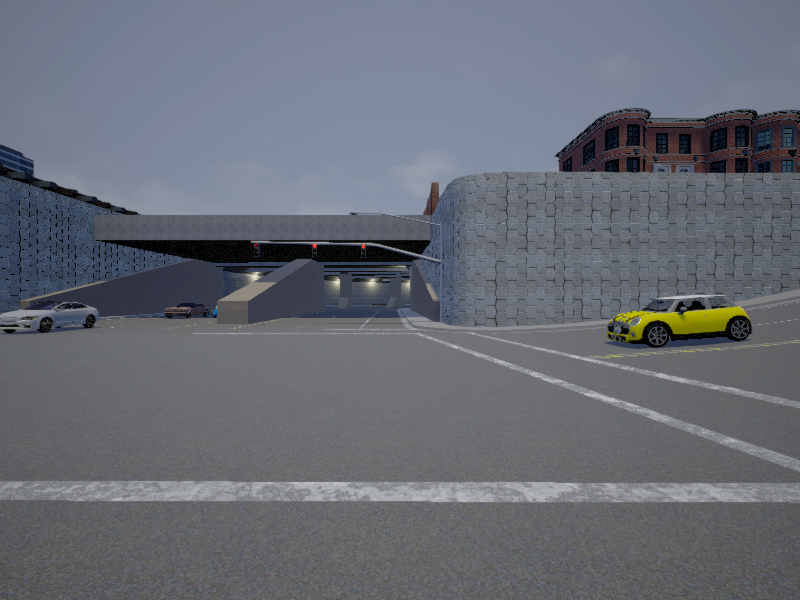Benign: (609, 295, 751, 342), (1, 301, 99, 330), (167, 302, 210, 318)
